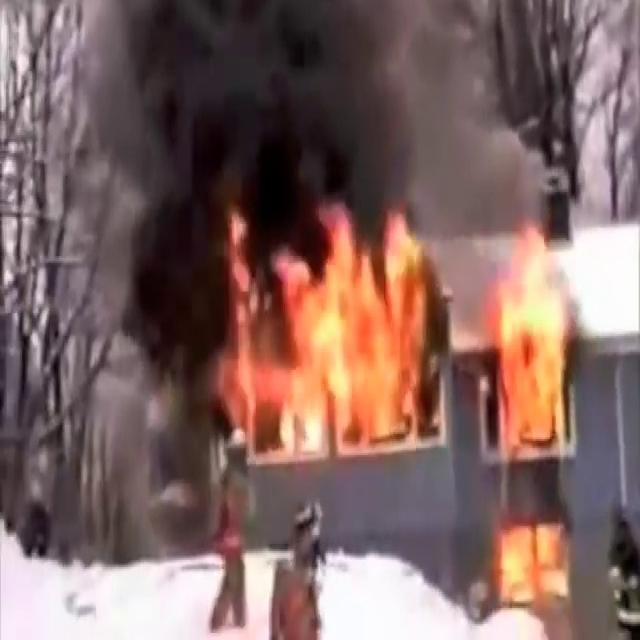Fire: (216, 188, 441, 470), (486, 216, 582, 469), (486, 504, 582, 632)
Smoke: (76, 1, 545, 300)
